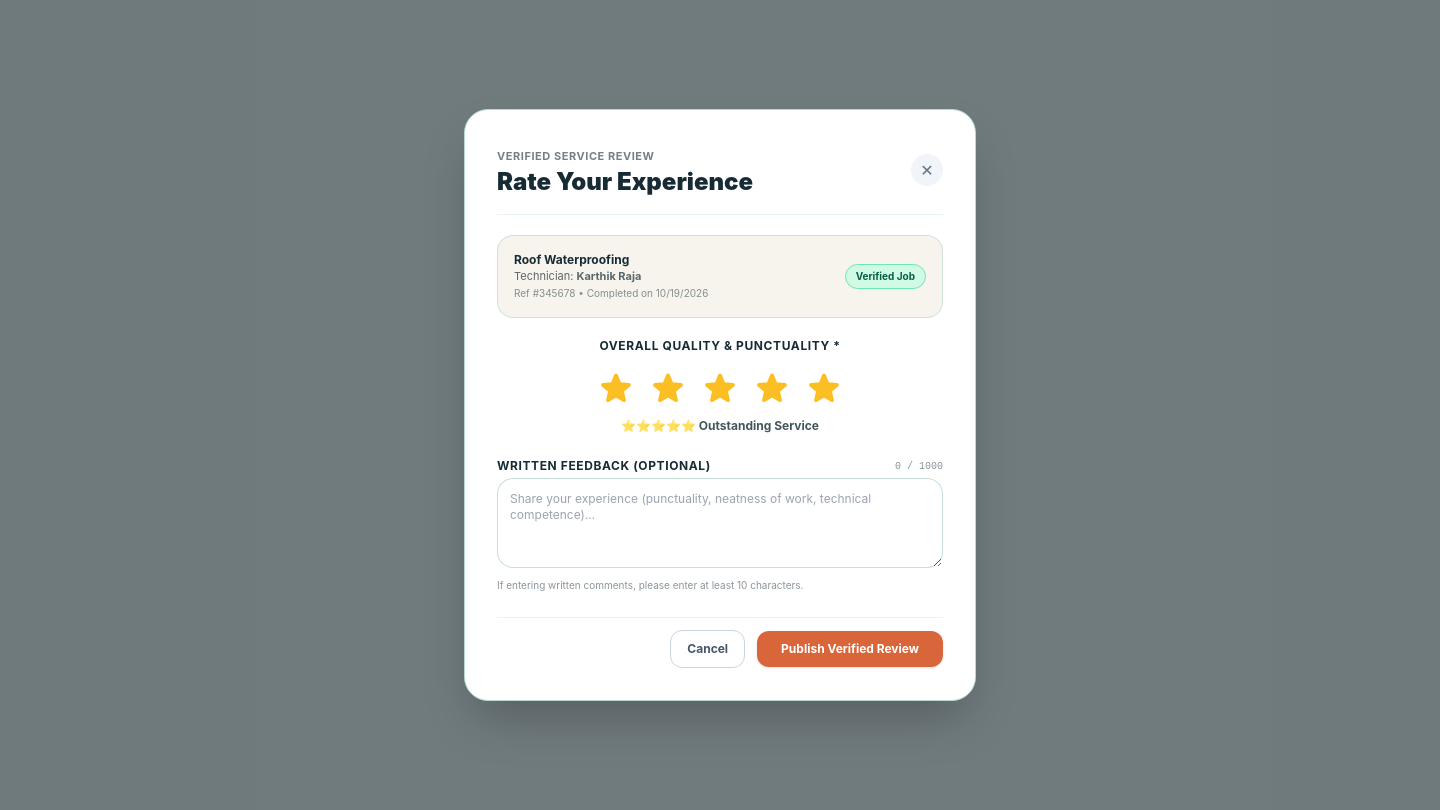
Scenario: ReviewModal Component › updates selected rating and descriptive label on star click
Click the radio button named "4 stars". click: coordinates (772, 388)
box: [750,366,794,410]
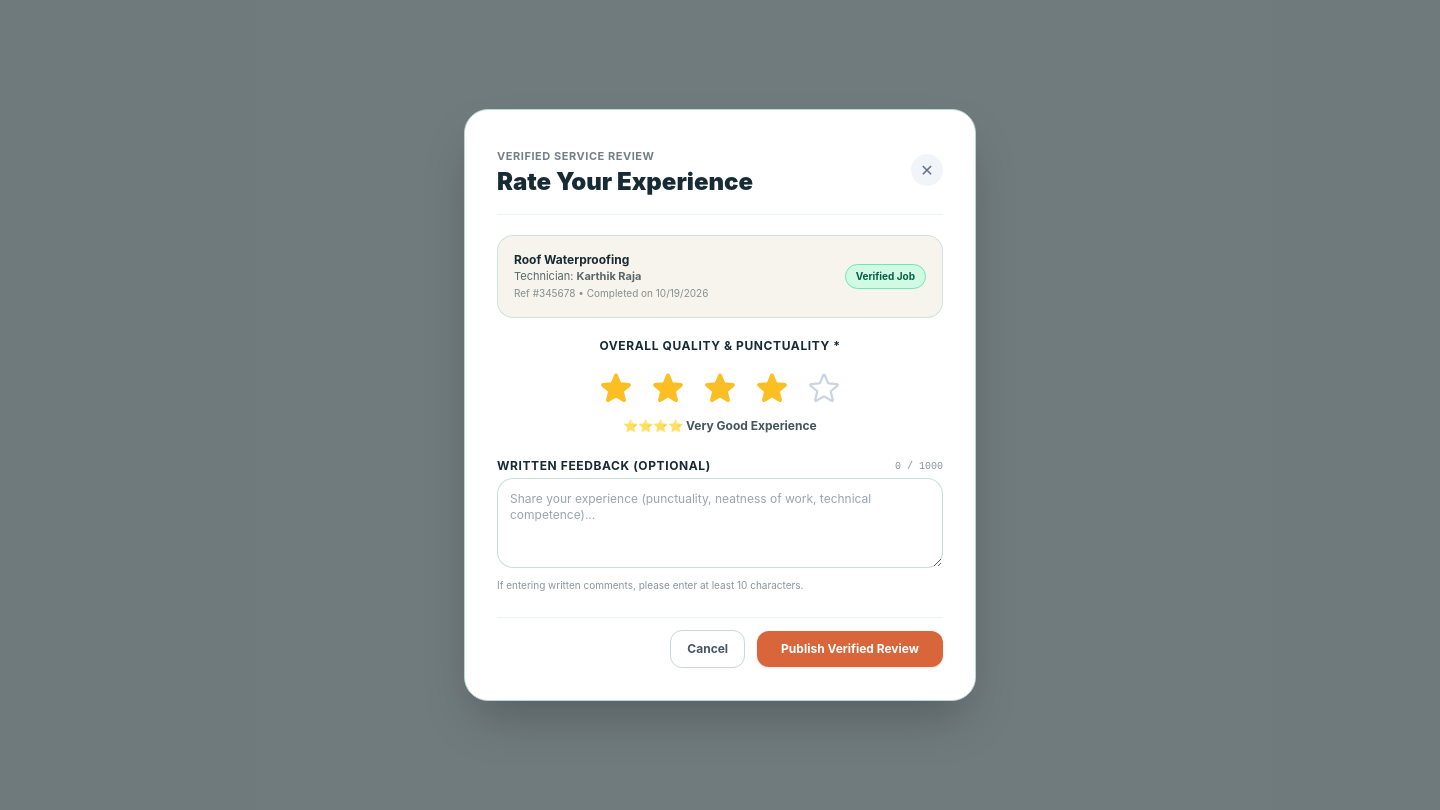
Expected: the text "⭐️⭐️⭐️⭐️ Very Good Experience" is shown, [623,418,817,433]
